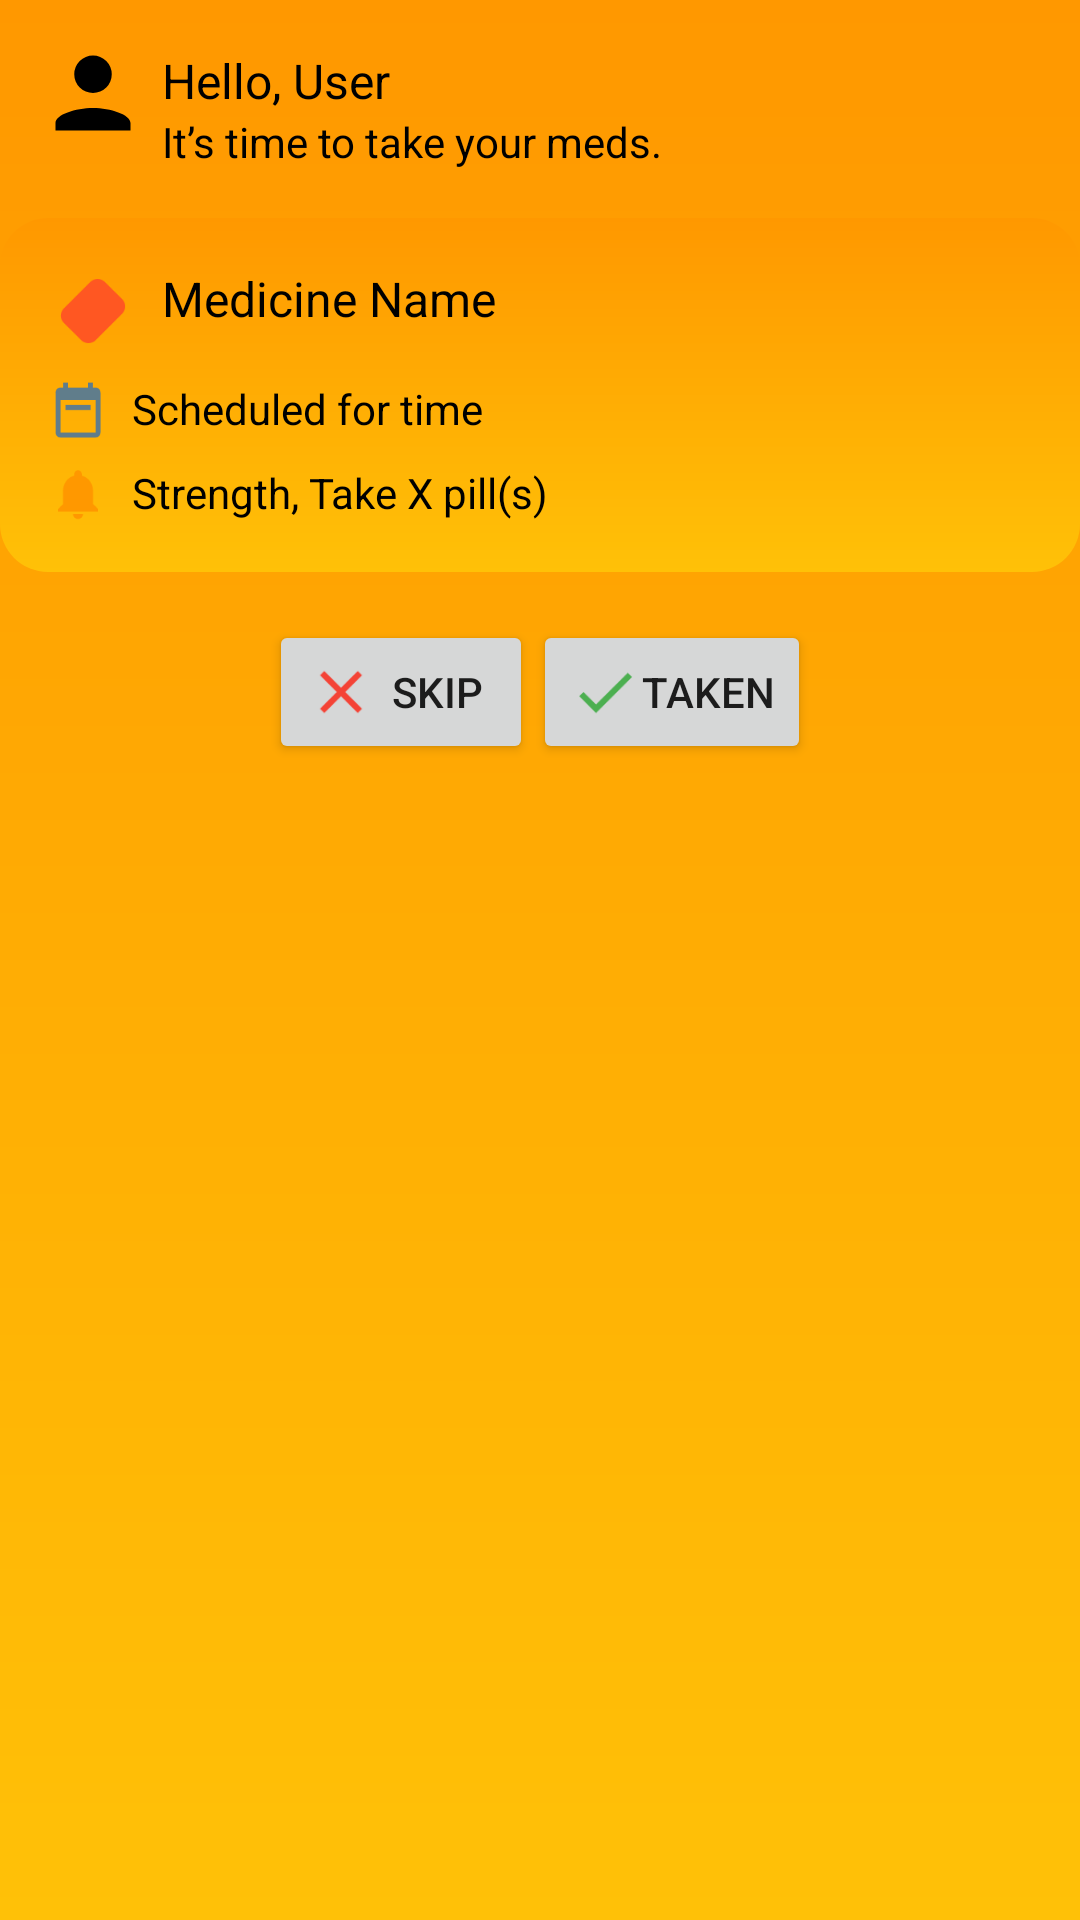

Screen size 1080px x 1920px. Icon name, then its box in pixels as BBox(x1, y1, x2, y2):
alert: BBox(58, 470, 98, 519)
date: BBox(55, 382, 101, 438)
user circle: BBox(55, 55, 131, 131)
